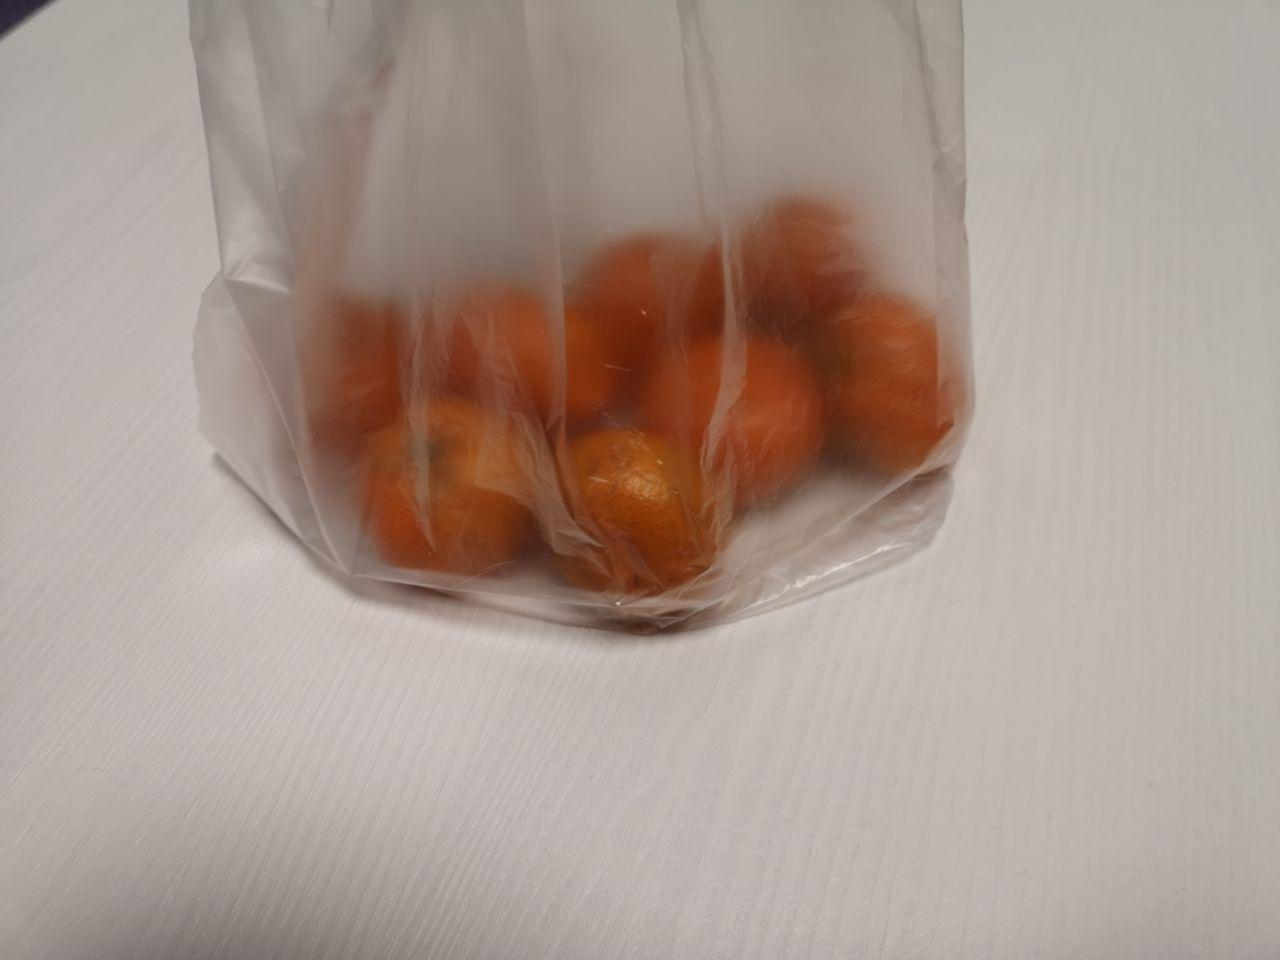clementin: (152, 134, 1008, 674)
